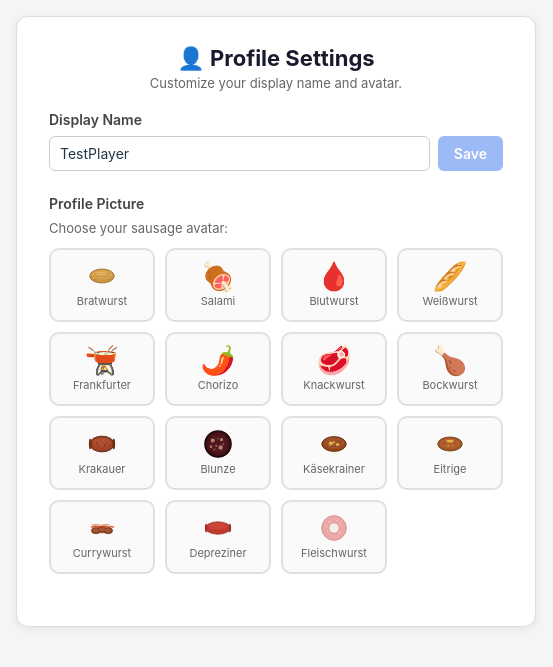
Test case: ProfileSettingsScreen › shows success message after saving name
Replace the text in the field named "display name" with "Saved" at (239, 154), box x1=49 y1=136 x2=430 y2=171
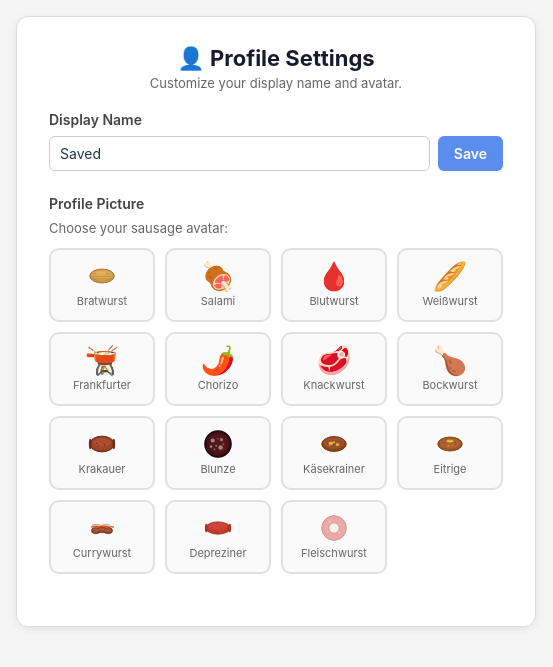
Click the button "Save" at (470, 154), box x1=438 y1=136 x2=503 y2=171
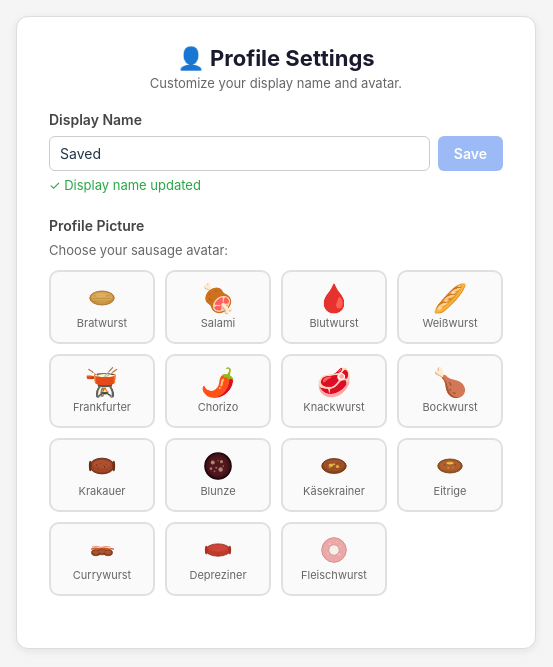
Expected: the text "✓ Display name updated" is shown, x1=49 y1=177 x2=201 y2=193
